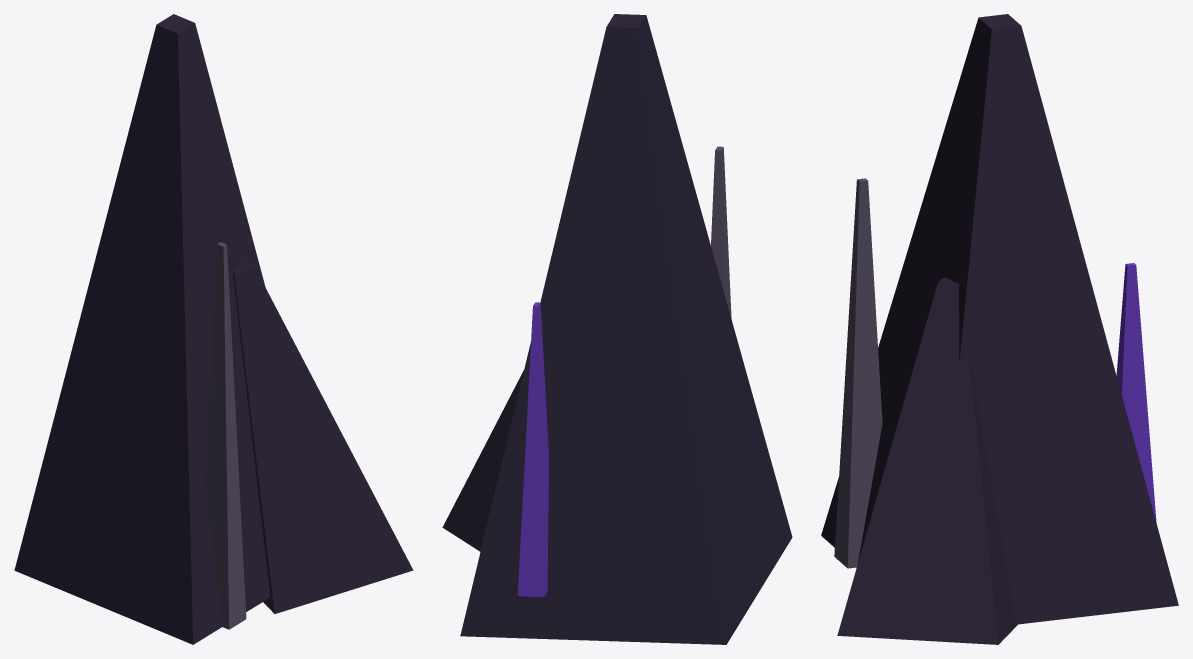
File: env_r16_obsidian_shard.glb
The picture shows the model from 3 angles, left to right: view 1: azimuth 30°, elevation 25°; view 2: azimuth 150°, elevation 25°; view 3: azimuth 270°, elevation 25°; orthographic projection. The views are drawn at different scales.
Visible parts, largest first — view 1: env_r16_obsidian_shard; view 2: env_r16_obsidian_shard; view 3: env_r16_obsidian_shard.
Boxes of the visible parts, <box> form: env_r16_obsidian_shard: <box>14,14,413,644</box>; env_r16_obsidian_shard: <box>442,14,792,644</box>; env_r16_obsidian_shard: <box>821,14,1178,644</box>.
Bounding box in the file's own units: 1.5 × 2.6 × 1.5.
Materials: 1 (1 with a texture image).
